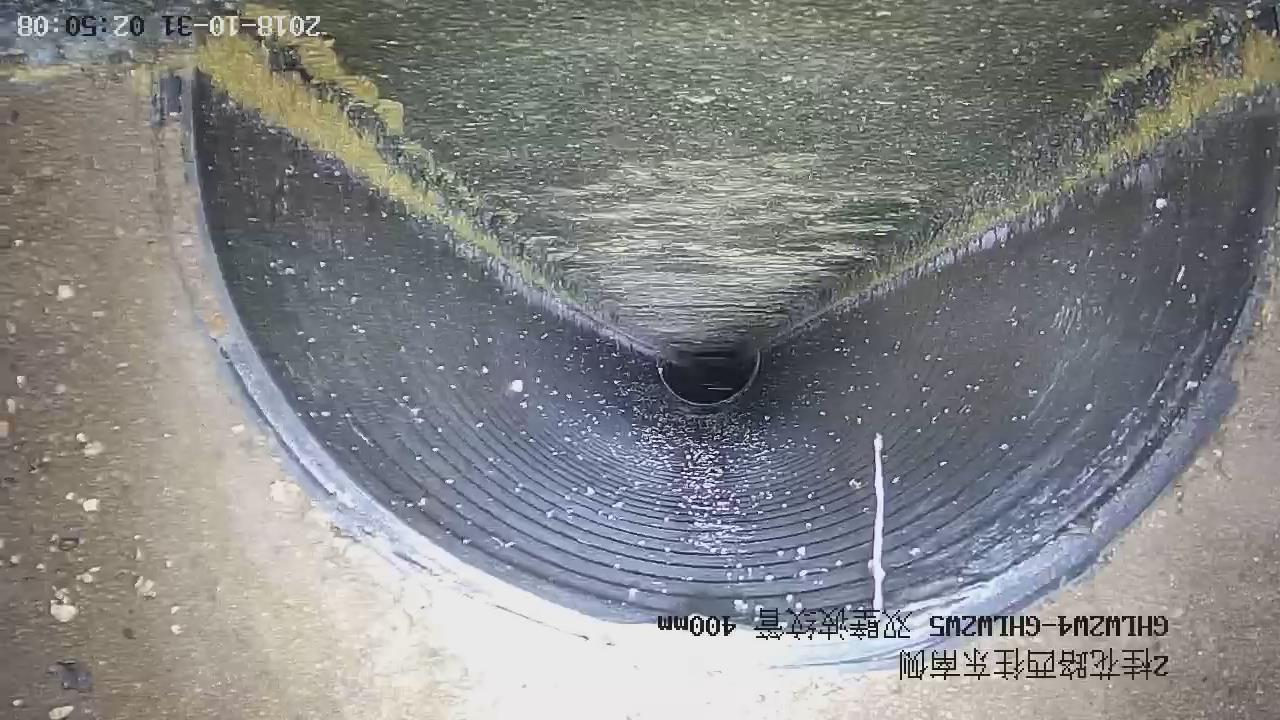FZ: (290, 1, 1165, 353)
